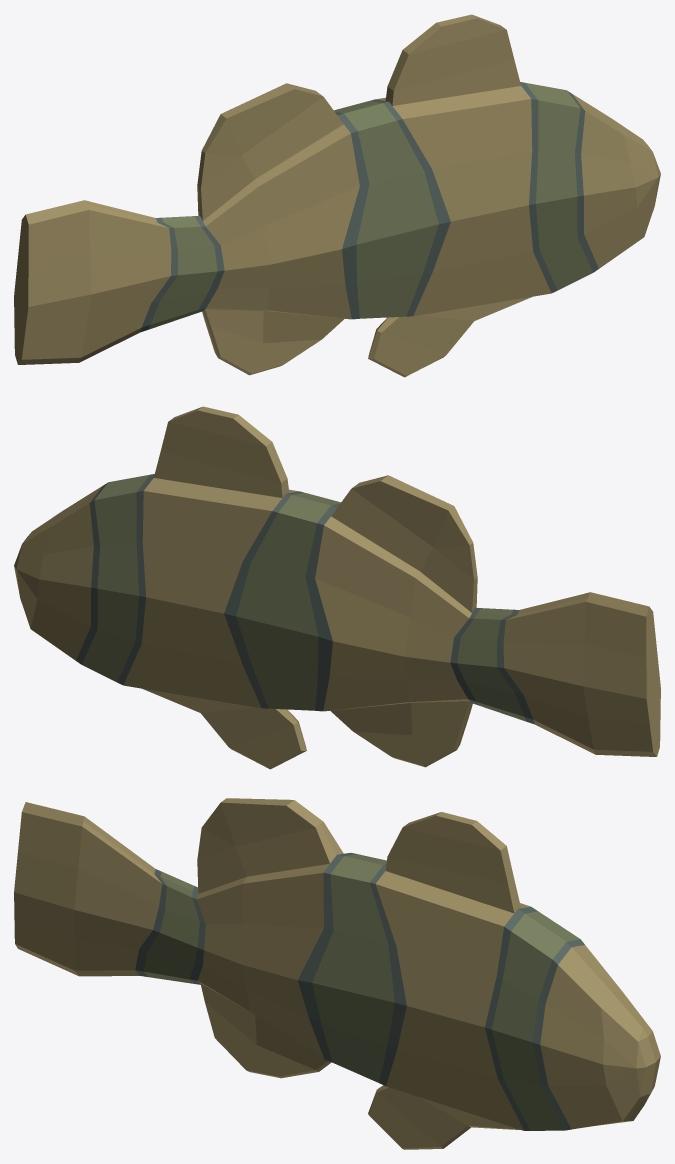
The model's file is Fish3.glb.
3 renders of one model, top to bottom at view 1: azimuth 30°, elevation 25°; view 2: azimuth 150°, elevation 25°; view 3: azimuth 330°, elevation 25°, orthographic.
Parts seen in each view (by area): view 1: Fish3; view 2: Fish3; view 3: Fish3.
Boxes of the visible parts, x1=… form: Fish3: x1=14, y1=14, x2=660, y2=377; Fish3: x1=14, y1=406, x2=660, y2=769; Fish3: x1=14, y1=798, x2=660, y2=1149.
Size of the model in its own units: 1 by 0.5158 by 0.1219.
